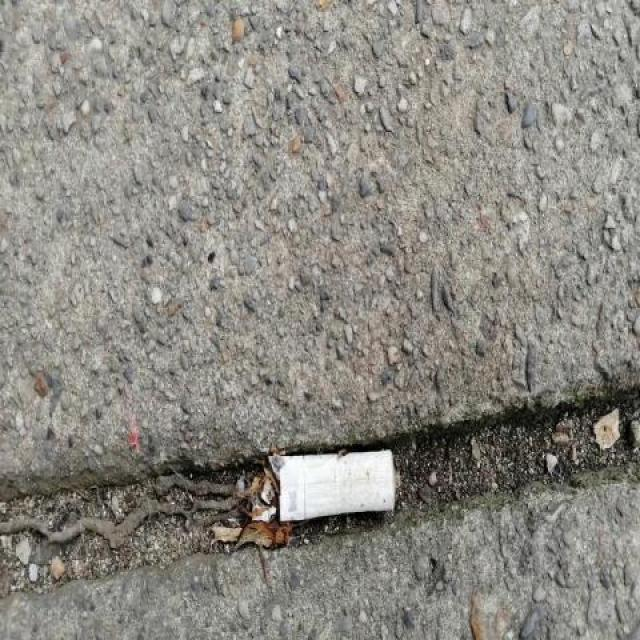non-organic waste: (266, 442, 406, 526)
